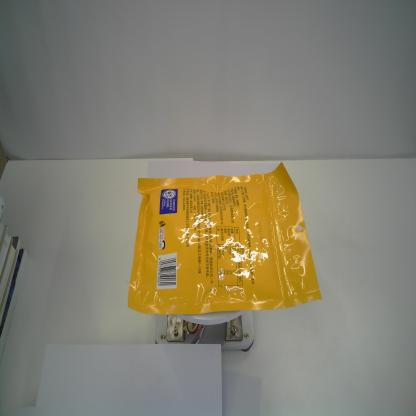Dried Fruit: (127, 159, 323, 314)
